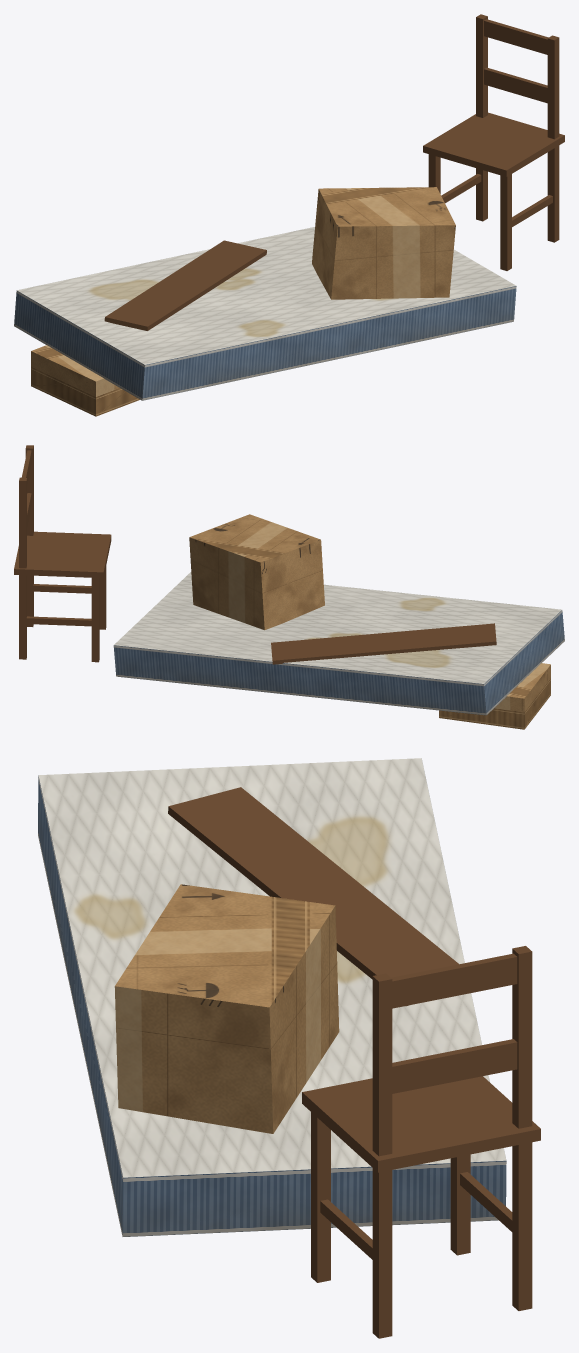
File: bulky_waste.glb
3 renders of one model, top to bottom at view 1: azimuth 30°, elevation 25°; view 2: azimuth 150°, elevation 25°; view 3: azimuth 270°, elevation 25°, orthographic. The views are drawn at different scales.
Visible parts, largest first — view 1: bulky_waste; view 2: bulky_waste; view 3: bulky_waste.
Boxes of the visible parts, x1,y1,x2,y2 form: bulky_waste: (14,14,564,416); bulky_waste: (14,445,564,729); bulky_waste: (38,758,540,1338).
Size of the model in its own units: 2.63 by 0.92 by 1.18.
3 materials, 2 textured.
